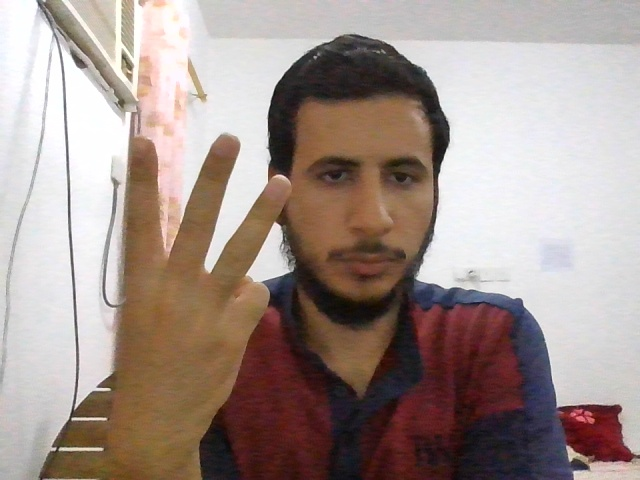Three: (115, 133, 293, 423)
